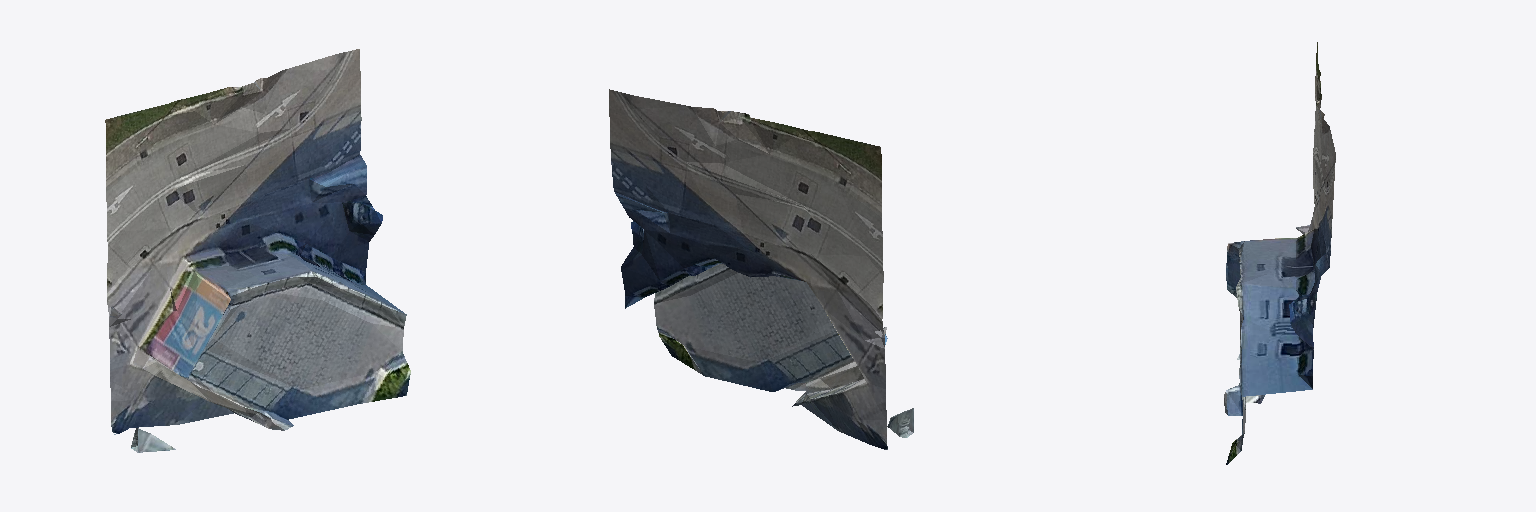
3 renders of one model, left to right at view 1: azimuth 30°, elevation 25°; view 2: azimuth 150°, elevation 25°; view 3: azimuth 270°, elevation 25°, orthographic.
Parts seen in each view (by area): view 1: obj_0; view 2: obj_0; view 3: obj_0.
Part boxes in pixels (x1,y1,x2,y2): obj_0: (105, 49, 410, 452); obj_0: (609, 89, 913, 449); obj_0: (1224, 42, 1335, 464).
Bounding box in the file's own units: 20.07 × 22.52 × 7.37.
1 materials, 1 textured.